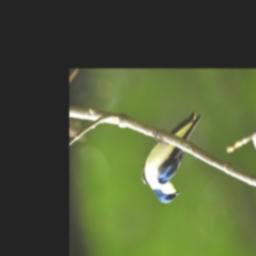Swallow: (140, 111, 203, 204)
